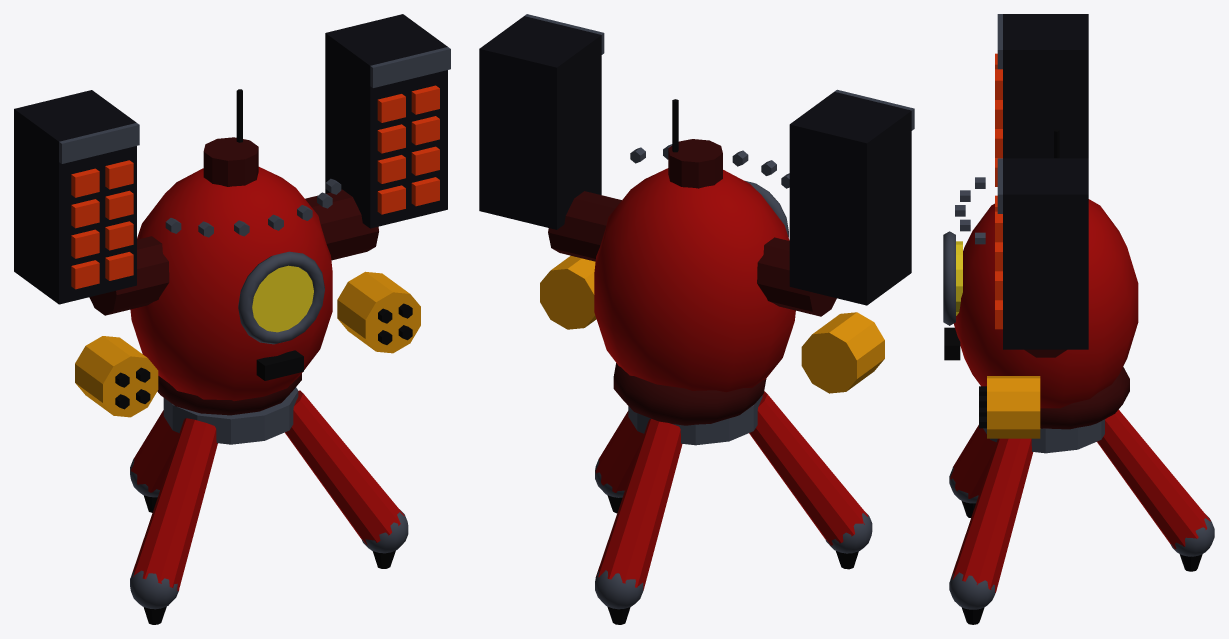
The model's file is Enemy_bomb.fbx.
3 renders of one model, left to right at view 1: azimuth 30°, elevation 25°; view 2: azimuth 150°, elevation 25°; view 3: azimuth 270°, elevation 25°, orthographic. The views are drawn at different scales.
Visible parts, largest first — view 1: Enemy_bomb; view 2: Enemy_bomb; view 3: Enemy_bomb.
Boxes of the visible parts, x1,y1,x2,y2 form: Enemy_bomb: (14, 14, 450, 624); Enemy_bomb: (479, 14, 914, 624); Enemy_bomb: (943, 14, 1214, 624).
Size of the model in its own units: 0.8 by 0.96 by 0.5085.
